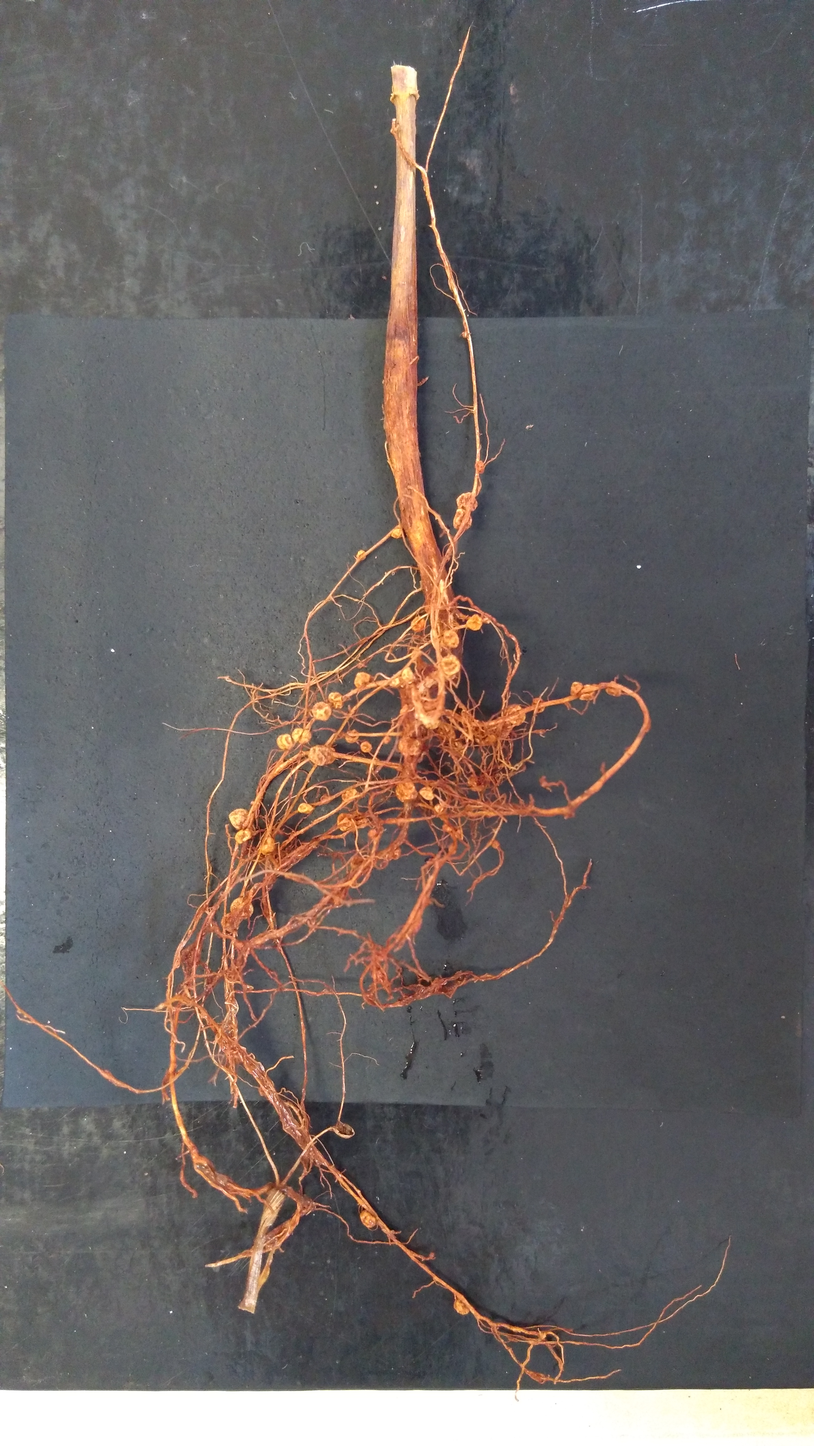nodule: (227, 895, 256, 925), (307, 743, 337, 767), (392, 779, 419, 805), (504, 700, 527, 730), (395, 735, 425, 756), (455, 490, 479, 513), (440, 652, 463, 676), (258, 834, 279, 858), (311, 700, 333, 722), (228, 807, 250, 829), (335, 811, 358, 832), (452, 508, 473, 530), (441, 628, 461, 650), (220, 912, 243, 931), (351, 671, 375, 689), (291, 725, 312, 745), (417, 784, 438, 804), (567, 677, 585, 699), (464, 612, 483, 632), (274, 731, 293, 751), (327, 691, 345, 711), (530, 694, 547, 715), (577, 689, 597, 706), (232, 829, 254, 844), (359, 1209, 376, 1228), (601, 684, 622, 699), (340, 787, 359, 803), (343, 728, 361, 744), (297, 801, 315, 817), (410, 615, 426, 632), (401, 667, 415, 686), (453, 1299, 470, 1314), (359, 740, 374, 755), (433, 802, 446, 817), (489, 838, 502, 852), (388, 676, 401, 688), (390, 528, 404, 539), (466, 774, 478, 785), (474, 460, 484, 473), (356, 549, 366, 561), (320, 794, 332, 804), (381, 736, 393, 745), (367, 829, 376, 839), (472, 785, 485, 791), (442, 824, 452, 831), (461, 331, 468, 340)
